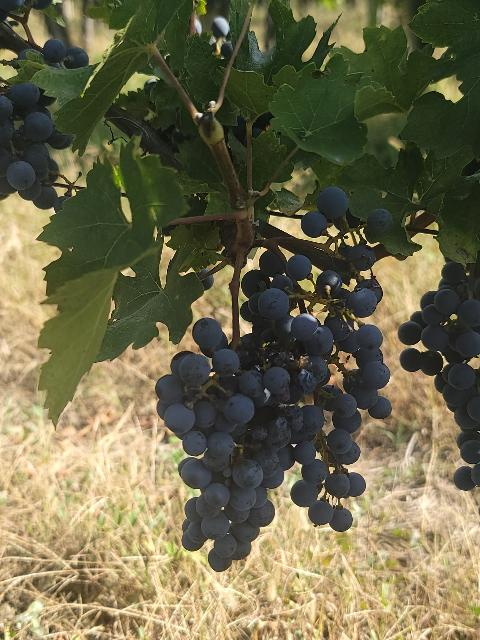grapes: (155, 318, 304, 571), (398, 261, 480, 490), (280, 389, 390, 500), (271, 270, 381, 370), (241, 250, 312, 316)
